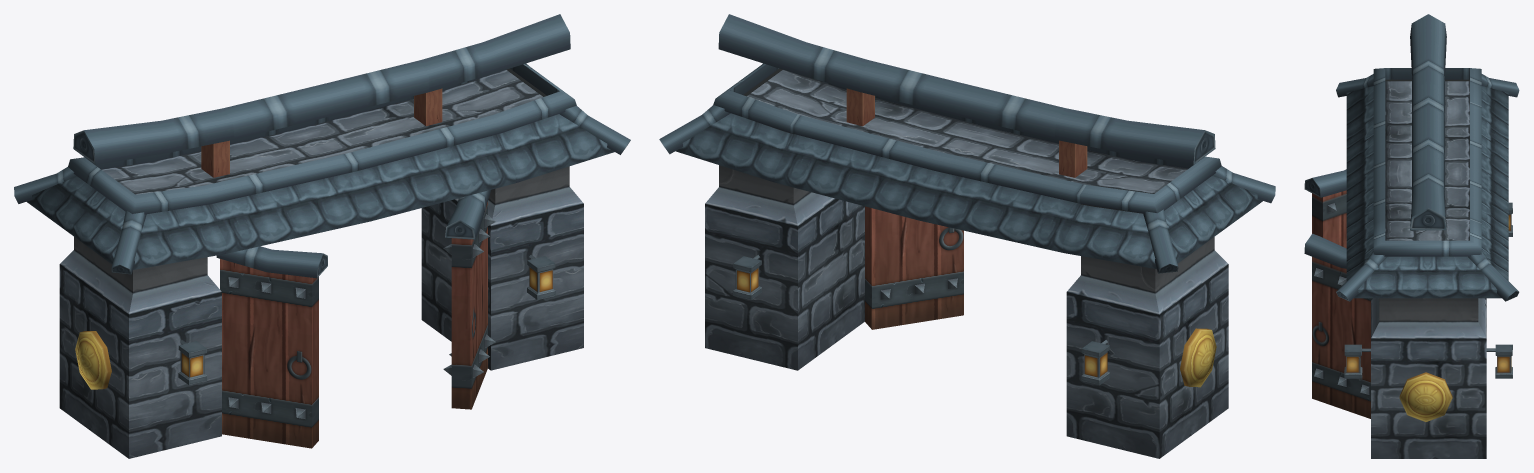
Rendered from castle_wall_up_01.fbx.
3 renders of one model, left to right at view 1: azimuth 30°, elevation 25°; view 2: azimuth 150°, elevation 25°; view 3: azimuth 270°, elevation 25°, orthographic. The views are drawn at different scales.
Visible parts, largest first — view 1: castle_wall_up_01; view 2: castle_wall_up_01; view 3: castle_wall_up_01.
Boxes of the visible parts, bbox=[...] form: castle_wall_up_01: bbox=[14, 14, 630, 458]; castle_wall_up_01: bbox=[659, 14, 1275, 458]; castle_wall_up_01: bbox=[1304, 14, 1519, 458].
Size of the model in its own units: 6.28 by 3.54 by 2.7.
Materials: 1 (1 with a texture image).
